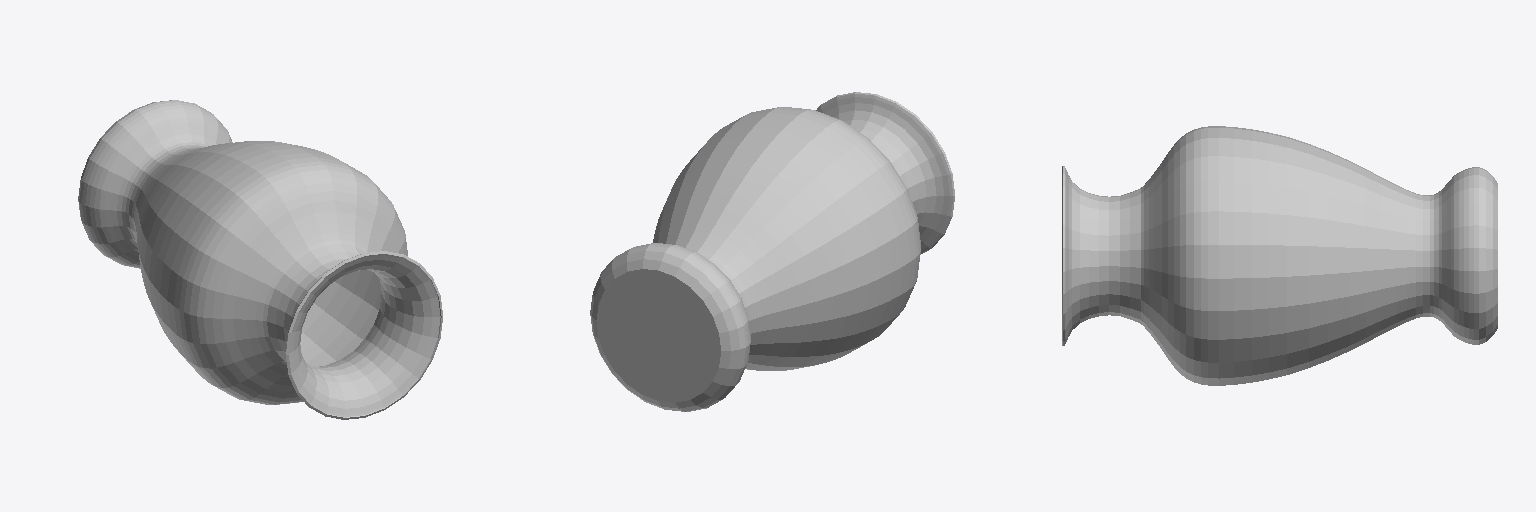
Rendered from Vase.obj.
3 views of the same model, side by side, from view 1: azimuth 30°, elevation 25°; view 2: azimuth 150°, elevation 25°; view 3: azimuth 270°, elevation 25° (orthographic).
Visible parts, largest first — view 1: obj1; view 2: obj1; view 3: obj1.
Boxes of the visible parts, box(x1,y1,x2,y2) form: obj1: box(78, 100, 442, 419); obj1: box(590, 92, 954, 411); obj1: box(1062, 126, 1497, 385).
Bounding box in the file's own units: 0.7428 × 0.7428 × 1.24.